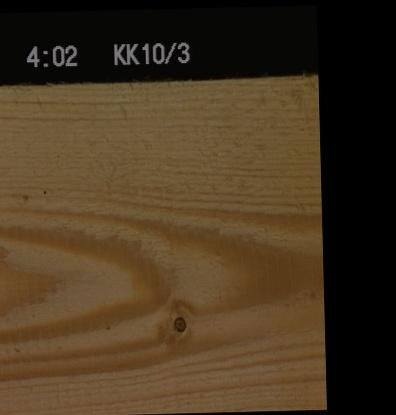dry_knot: (171, 314, 187, 332)
